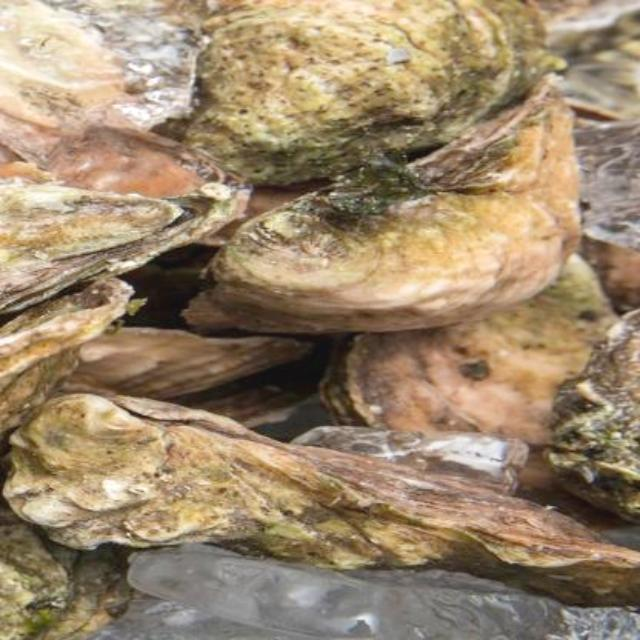Oyster-Closed: (3, 394, 638, 608), (185, 76, 585, 334), (167, 0, 553, 186), (319, 256, 618, 491), (125, 547, 638, 638), (0, 183, 243, 314), (0, 0, 205, 125), (0, 279, 135, 460), (547, 309, 638, 523), (63, 330, 318, 397), (43, 124, 253, 196), (0, 524, 127, 638), (577, 121, 638, 250)
Oyster-Open: (560, 39, 638, 129)
